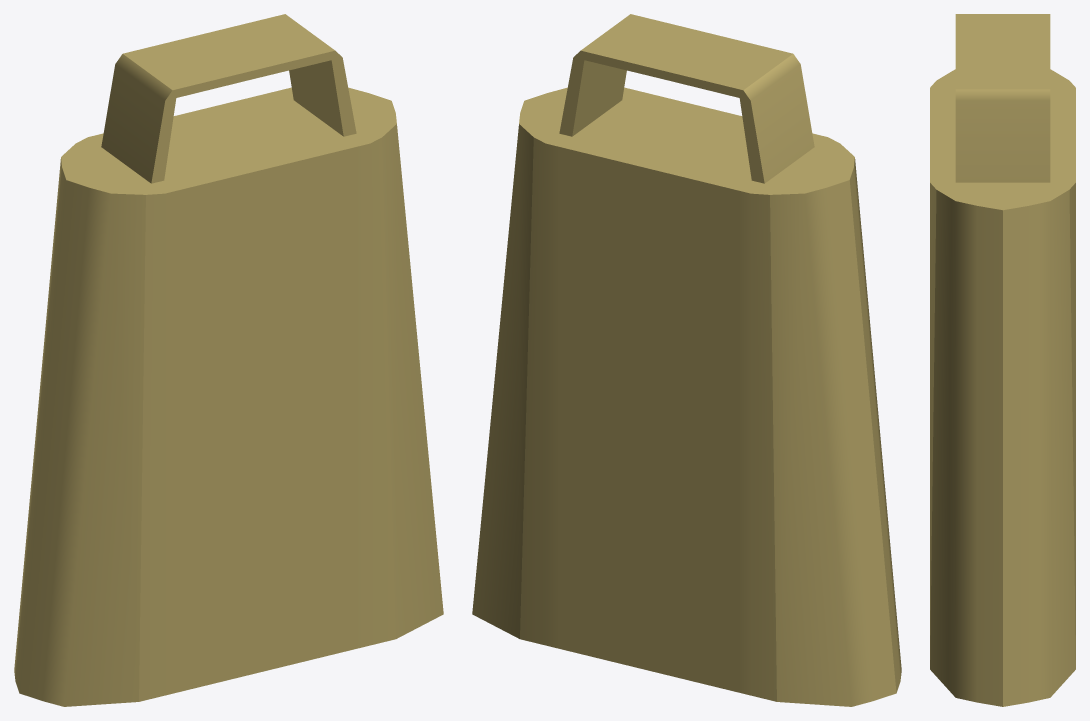
File: cowlBellColored.fbx
3 views of the same model, side by side, from view 1: azimuth 30°, elevation 25°; view 2: azimuth 150°, elevation 25°; view 3: azimuth 270°, elevation 25° (orthographic). The views are drawn at different scales.
Visible parts, largest first — view 1: CowbellModel:pCube7; view 2: CowbellModel:pCube7; view 3: CowbellModel:pCube7.
Boxes of the visible parts, x1,y1,x2,y2 form: CowbellModel:pCube7: [14, 14, 443, 706]; CowbellModel:pCube7: [472, 14, 901, 706]; CowbellModel:pCube7: [930, 14, 1075, 706].
Size of the model in its own units: 3.13 by 4.22 by 0.9981.
